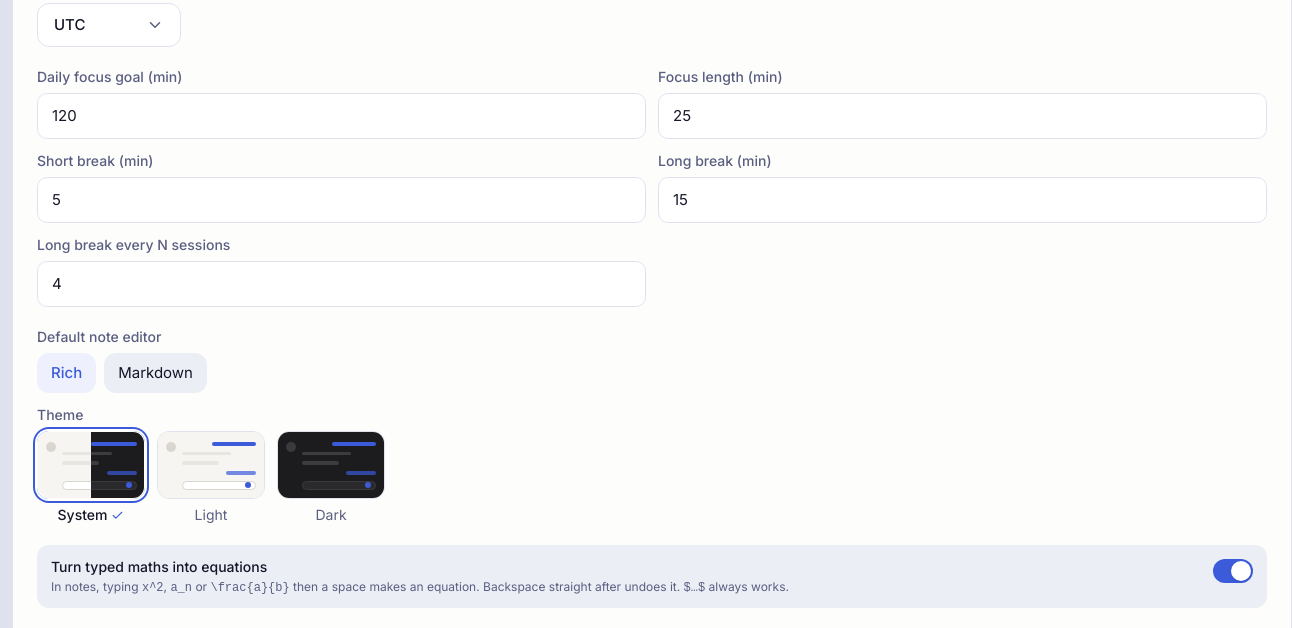
Test: Settings save › saving the form doesn't undo an accent picked while the save was in flight
Replace the text in the number field labelled "Focus length (min)" with "30" at (962, 116), box [658, 93, 1267, 139]
(page scrolled)
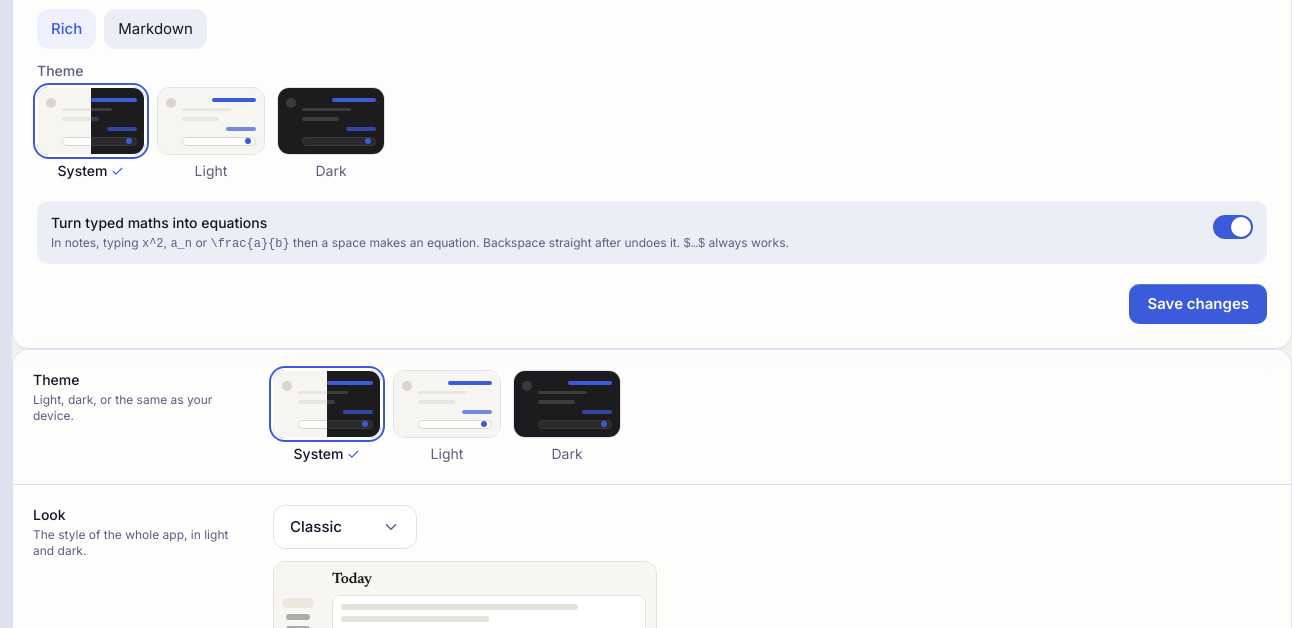
Click the button "Save changes" at (1198, 304), box [1130, 284, 1267, 324]
(page scrolled)
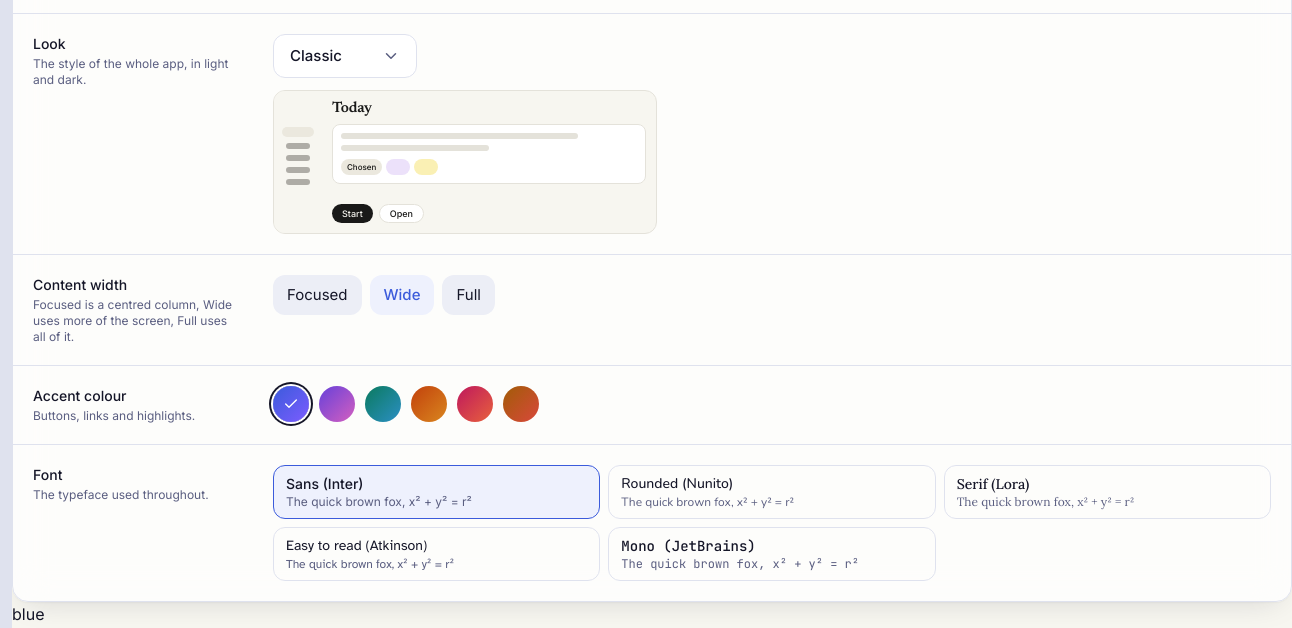
Click the radio button named "Teal accent" at (383, 404), box [365, 386, 401, 422]
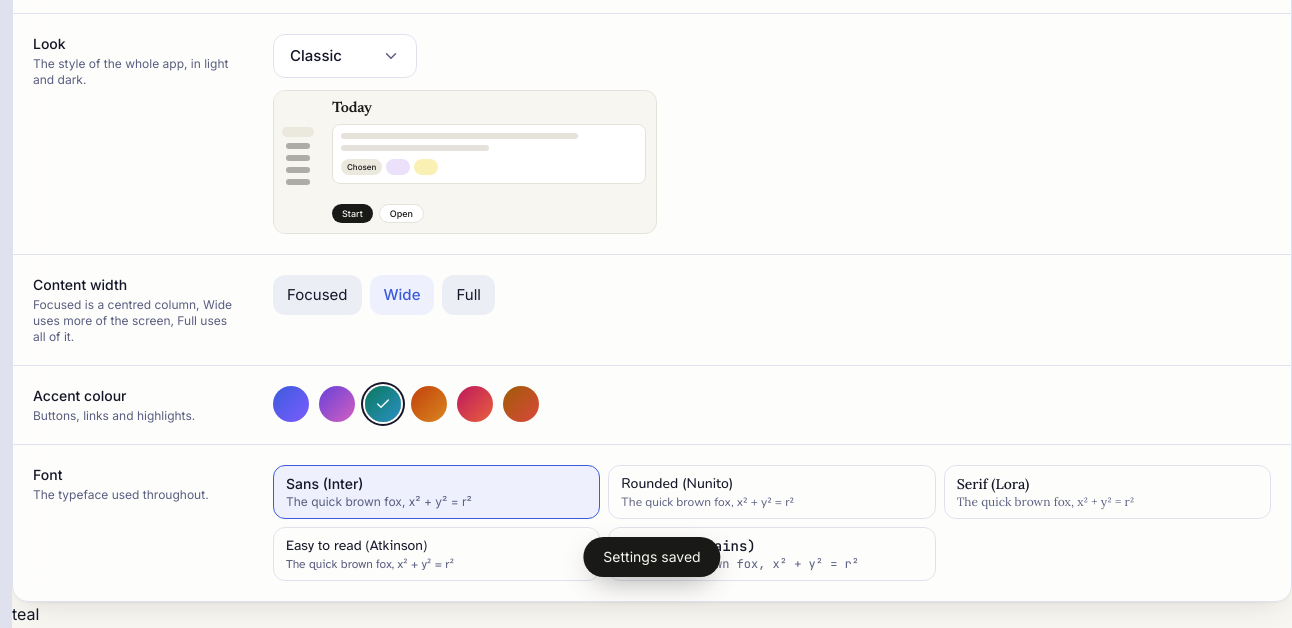
Now the text with test id "accent" reads "teal", box [12, 604, 39, 624]
